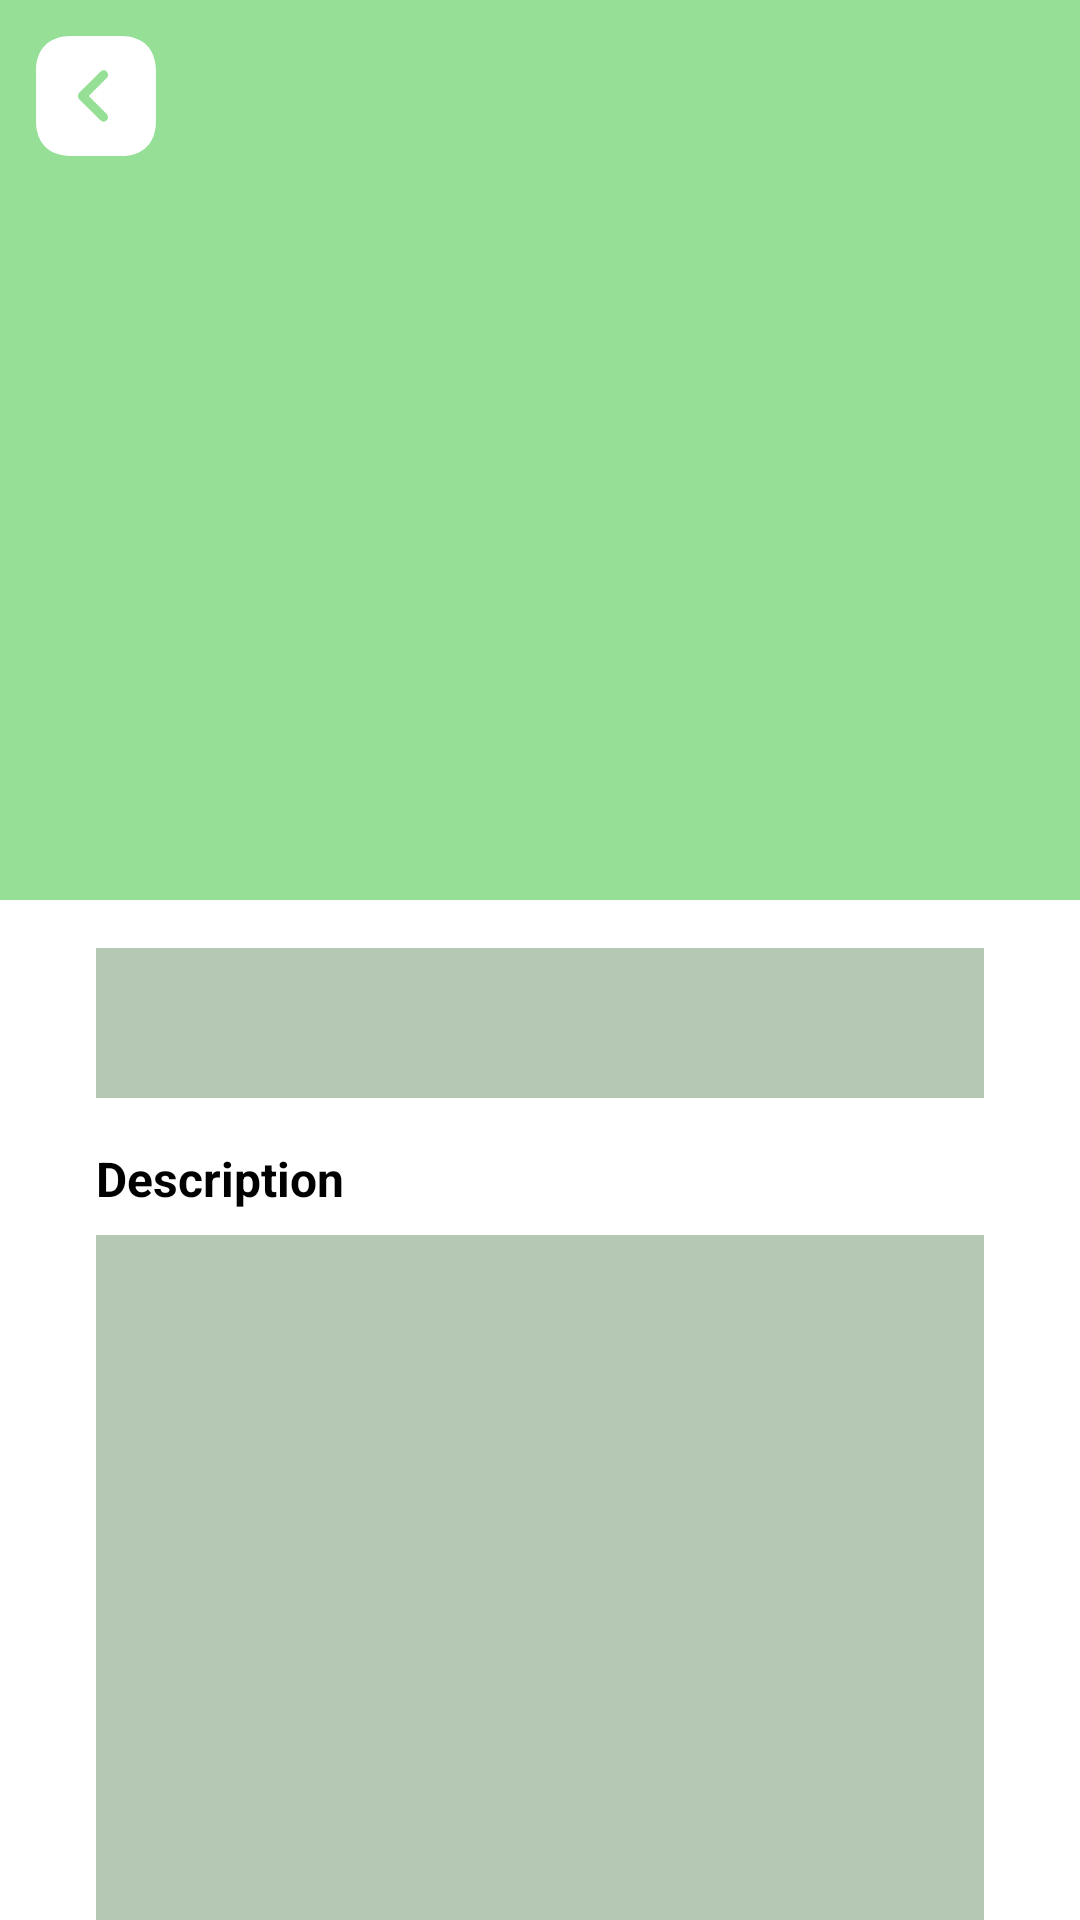

Where icons sit on this 1080w x 1920h app screen, as BBox(x1, y1, x2, y2):
arrow square left: BBox(36, 36, 156, 156)
